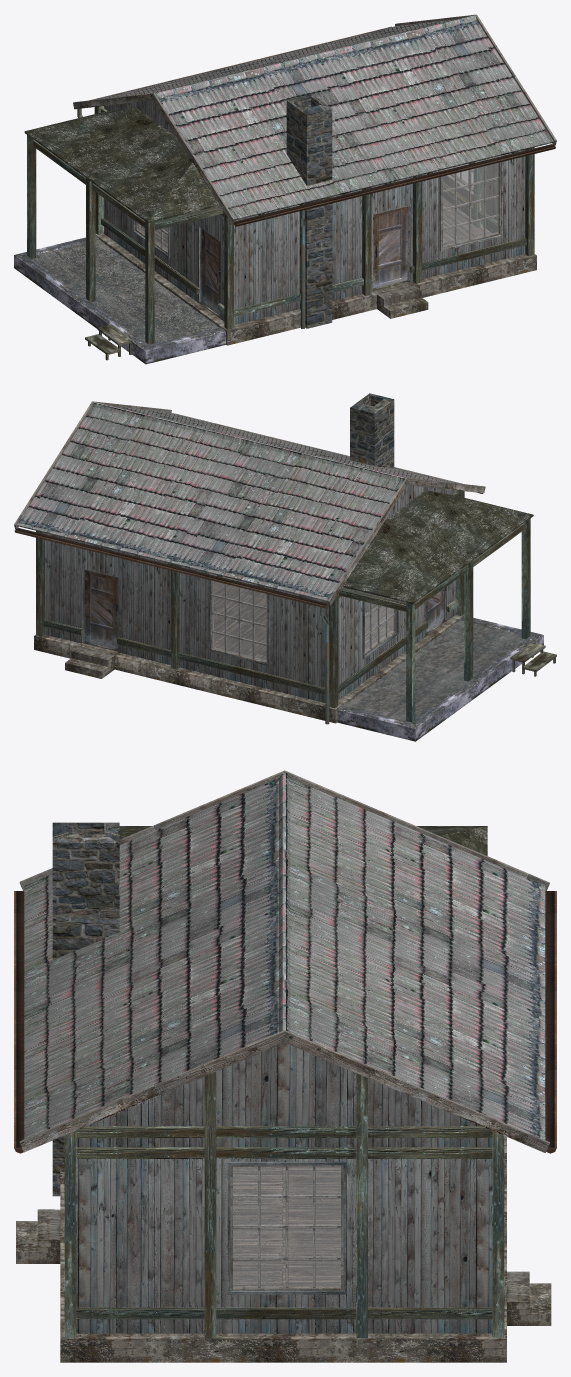
File: wood_house_A.FBX
The picture shows the model from 3 angles, top to bottom: view 1: azimuth 30°, elevation 25°; view 2: azimuth 150°, elevation 25°; view 3: azimuth 270°, elevation 25°; orthographic projection. The views are drawn at different scales.
Parts seen in each view (by area): view 1: wood_house_A, window04, stodola_door_A13, stodola_door_A12; view 2: wood_house_A, window03, stodola_door_A14, window01, stodola_door_A12; view 3: wood_house_A, window02.
Boxes of the visible parts, x1,y1,x2,y2 form: wood_house_A: [14, 14, 556, 364]; window04: [442, 162, 500, 248]; stodola_door_A13: [373, 206, 407, 288]; stodola_door_A12: [201, 228, 220, 315]; wood_house_A: [14, 393, 556, 741]; window03: [210, 580, 267, 664]; stodola_door_A14: [84, 570, 118, 649]; window01: [365, 592, 396, 655]; stodola_door_A12: [425, 587, 446, 633]; wood_house_A: [14, 770, 556, 1362]; window02: [230, 1165, 343, 1290].
Bounding box in the file's own units: 154 × 104 × 75.22.
